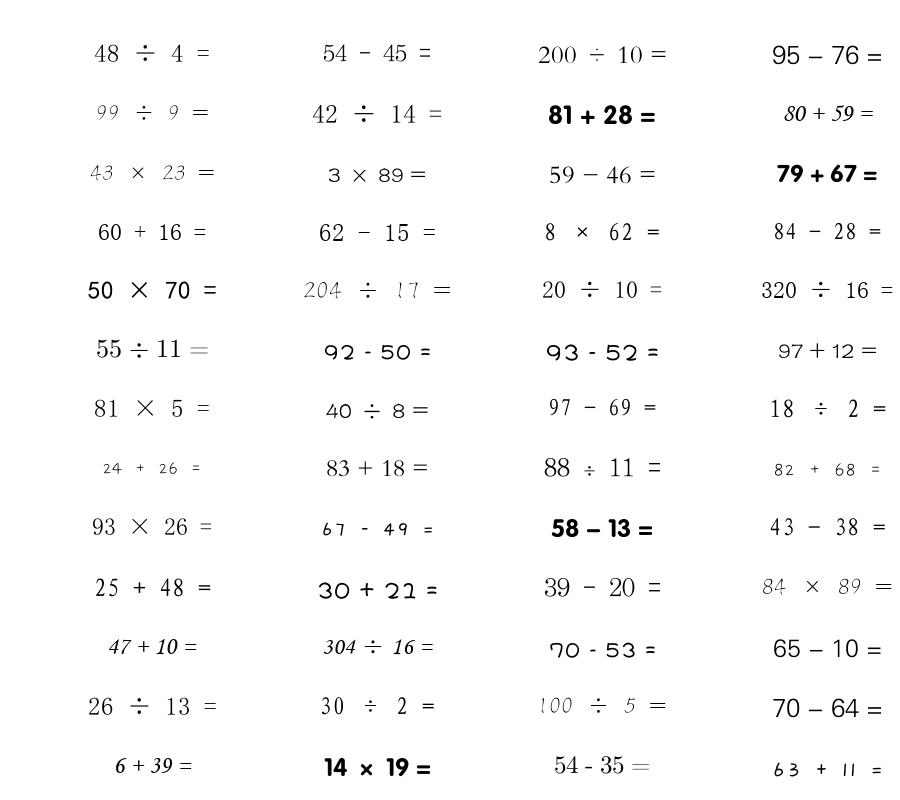MQ: (303, 281, 451, 299), (312, 104, 442, 123), (88, 281, 217, 300), (544, 457, 661, 477), (544, 577, 661, 597), (538, 46, 667, 64), (88, 697, 217, 715), (761, 281, 893, 298), (762, 578, 893, 595), (769, 399, 886, 418), (94, 578, 211, 597), (772, 45, 883, 65), (772, 698, 883, 718), (537, 697, 667, 714), (548, 105, 656, 125), (96, 339, 209, 358), (324, 757, 431, 777), (769, 518, 886, 536), (94, 44, 210, 62), (544, 223, 660, 241), (94, 399, 210, 417), (319, 697, 435, 715), (773, 639, 882, 658), (317, 582, 438, 599), (542, 281, 662, 298), (92, 518, 212, 535), (551, 518, 653, 538), (90, 165, 215, 181), (319, 224, 436, 241), (323, 44, 431, 62), (773, 222, 881, 240), (548, 398, 656, 416), (549, 166, 656, 184), (546, 344, 659, 361), (777, 164, 877, 183), (322, 639, 433, 655), (326, 460, 429, 477), (98, 224, 206, 240), (554, 756, 650, 774), (324, 344, 431, 360), (549, 642, 656, 658), (96, 105, 209, 120), (771, 762, 884, 777), (778, 342, 877, 359), (326, 403, 429, 419), (320, 522, 435, 536), (107, 638, 197, 655), (773, 463, 882, 477), (782, 105, 873, 121), (328, 168, 426, 182), (102, 462, 202, 475), (113, 758, 192, 773)
